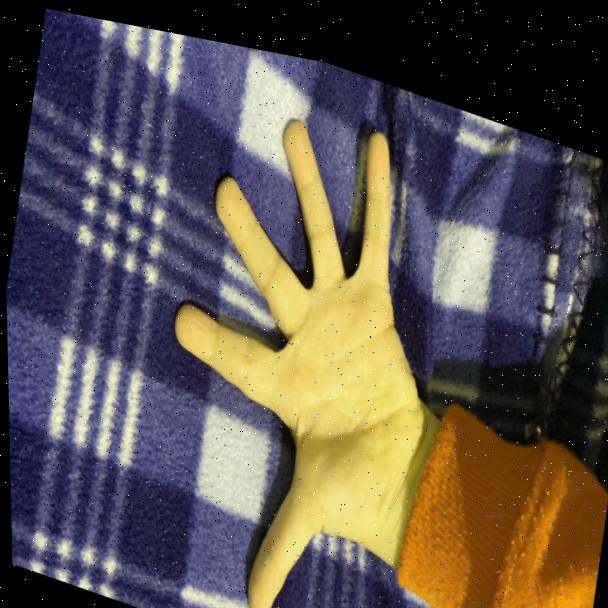five: (122, 48, 474, 608)
